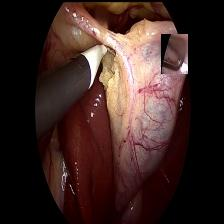Grasper: (160, 33, 187, 73)
Hook: (80, 34, 116, 86)
